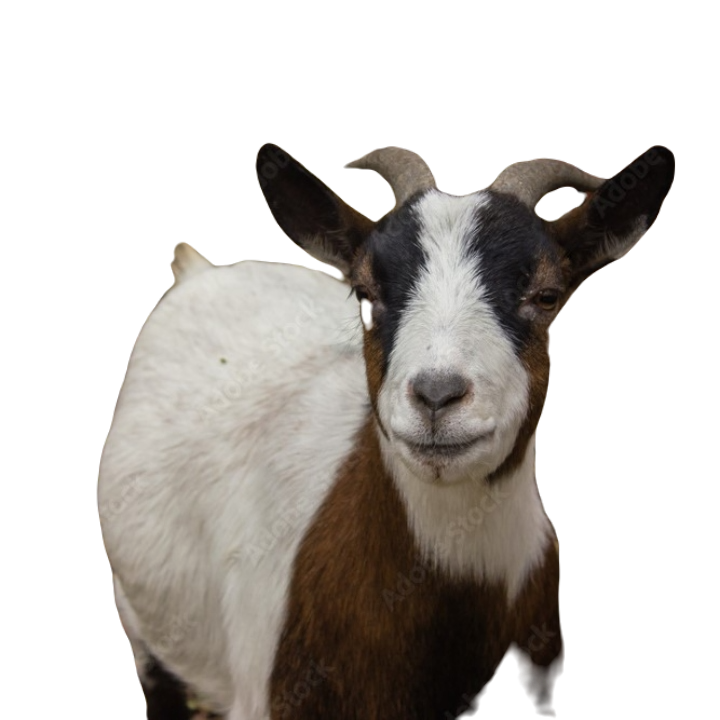Goat: (96, 142, 677, 719)
